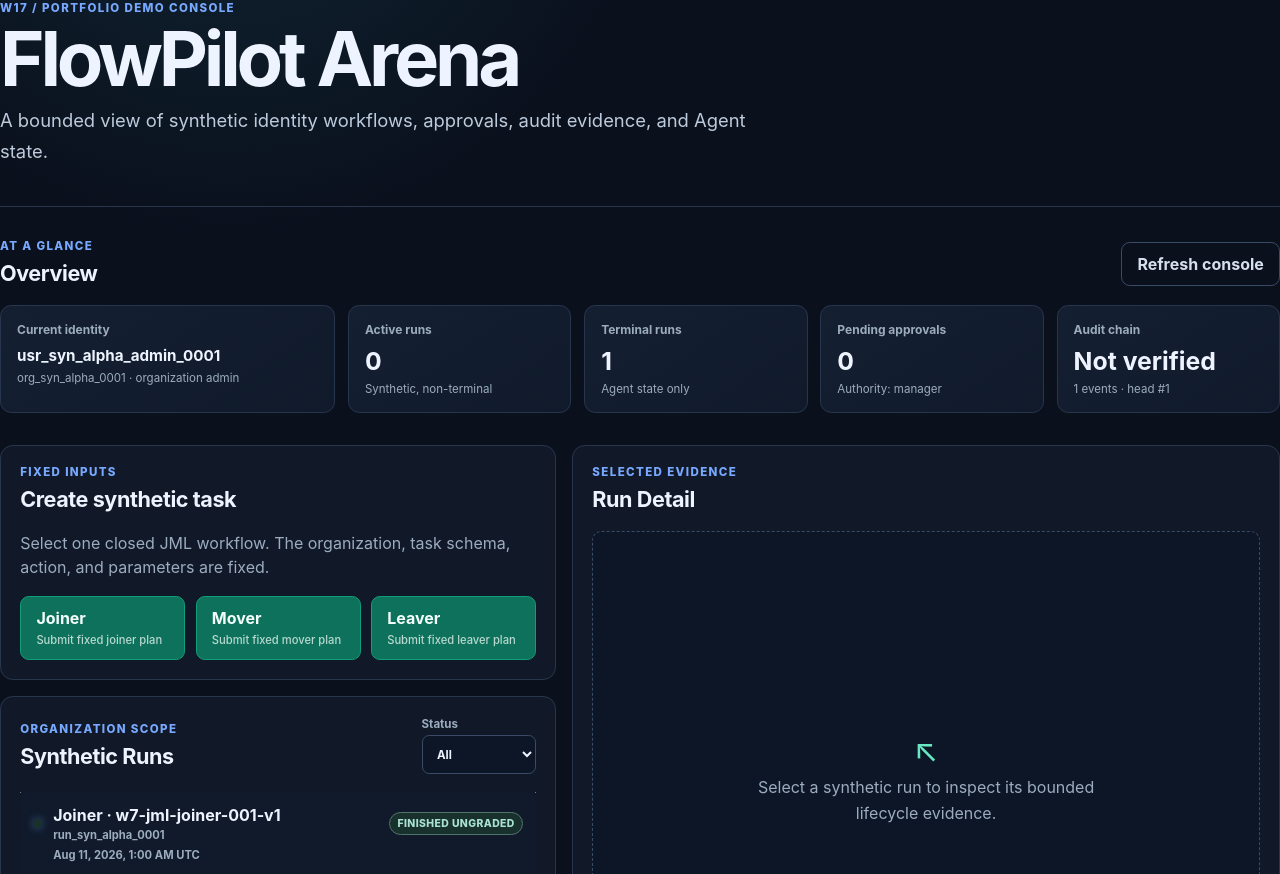
DemoConsole › shows strict Agent/Grader separation for finished_ungraded
(page scrolled)
Click the 6th button at (78, 815), box x1=20 y1=792 x2=536 y2=873
(page scrolled)
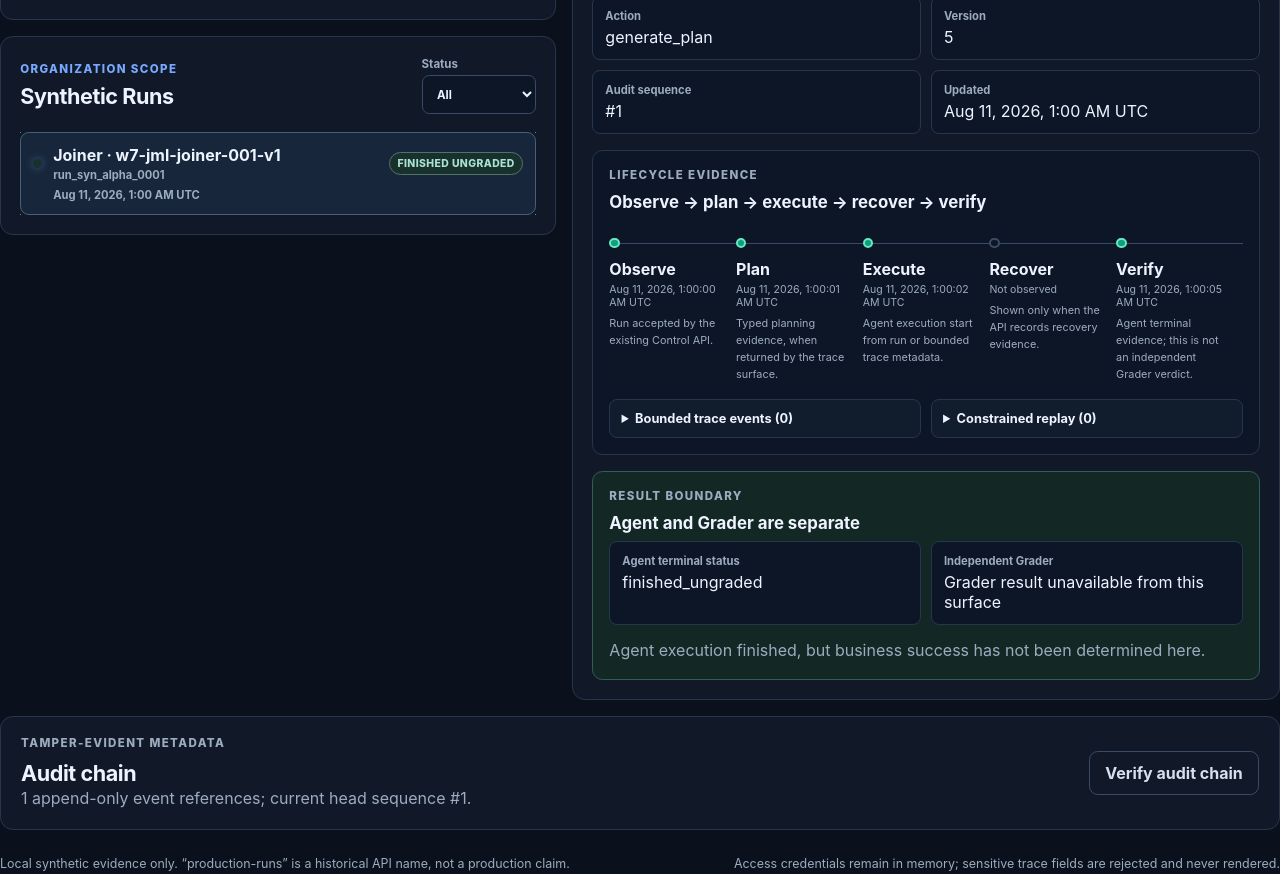
Now the heading "Agent and Grader are separate" is shown, box x1=609 y1=513 x2=860 y2=533
Now the text "Grader result unavailable from this surface" is shown, box x1=944 y1=572 x2=1230 y2=612
Now the text "business success has not been determined" is shown, box x1=609 y1=640 x2=1205 y2=660
